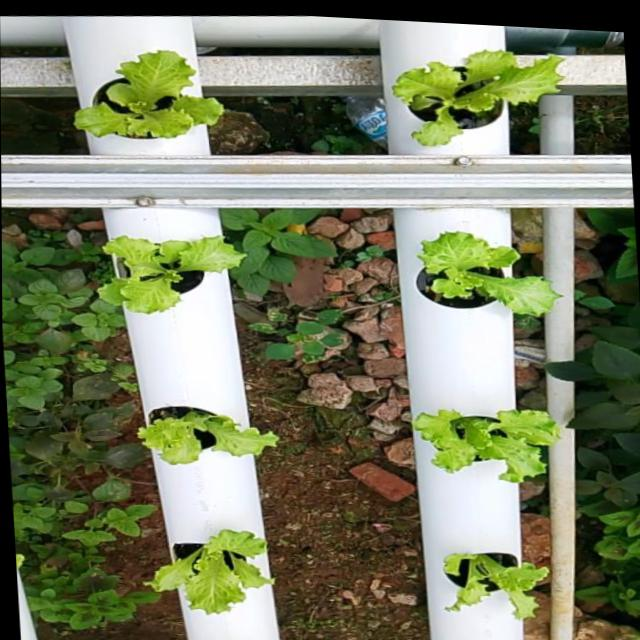Baby: (402, 57, 575, 153), (82, 52, 231, 156), (417, 231, 564, 317), (103, 238, 254, 317), (143, 530, 273, 615), (413, 410, 562, 484), (137, 406, 279, 465), (444, 555, 549, 620)
